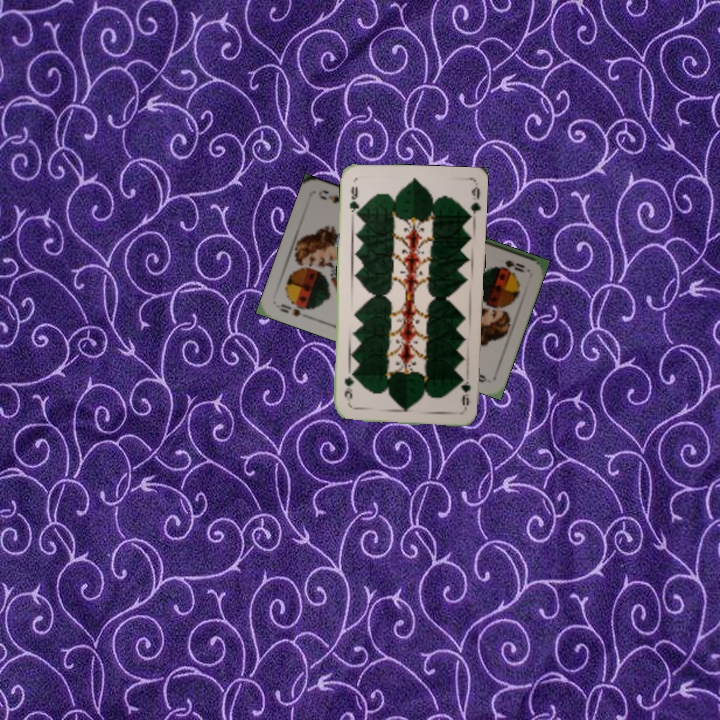G9: (456, 372, 473, 411), (346, 182, 362, 218)
SO: (275, 300, 312, 319), (501, 256, 527, 275)
